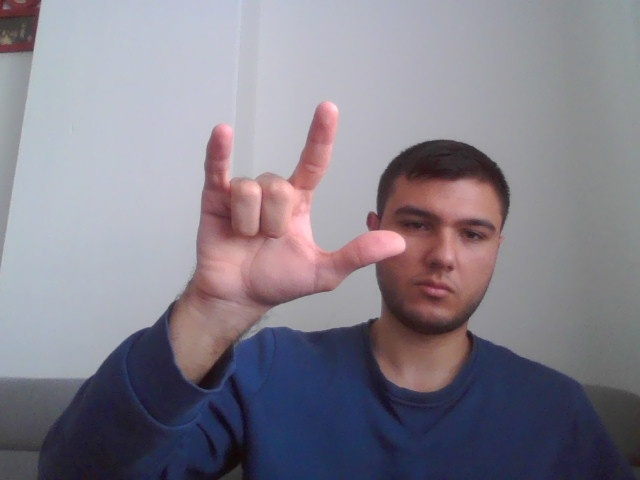ı love you: (191, 100, 409, 311)
